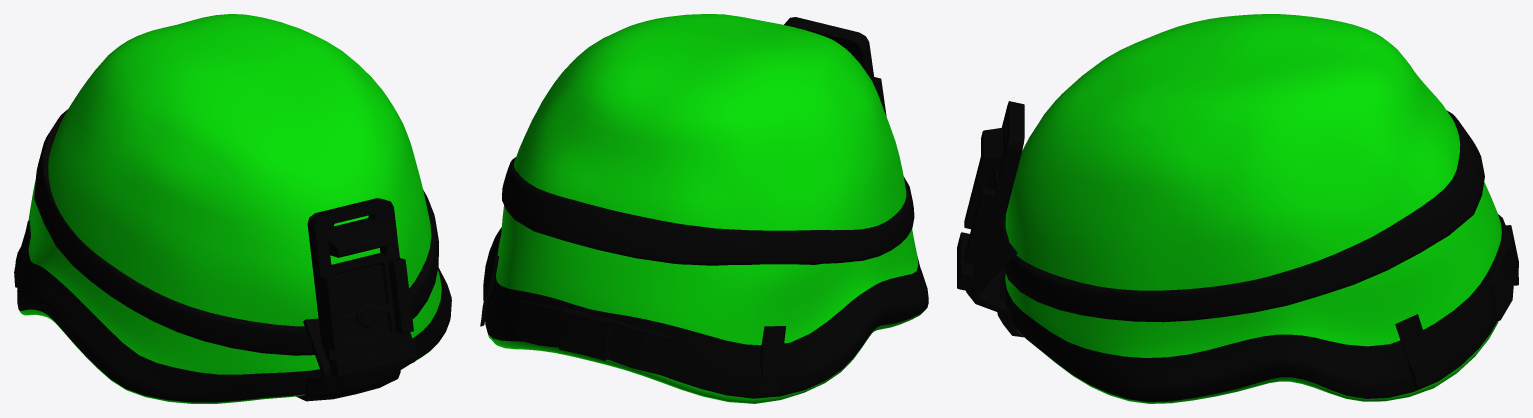
Rendered from USCitizen_Helmet.fbx.
The picture shows the model from 3 angles, left to right: view 1: azimuth 30°, elevation 25°; view 2: azimuth 150°, elevation 25°; view 3: azimuth 270°, elevation 25°; orthographic projection. The views are drawn at different scales.
Parts seen in each view (by area): view 1: helmet_EXPORT; view 2: helmet_EXPORT; view 3: helmet_EXPORT.
Boxes of the visible parts, bbox=[...] form: helmet_EXPORT: bbox=[14, 14, 451, 403]; helmet_EXPORT: bbox=[480, 14, 928, 403]; helmet_EXPORT: bbox=[957, 14, 1518, 403].
Bounding box in the file's own units: 11.16 × 7.76 × 14.09.
